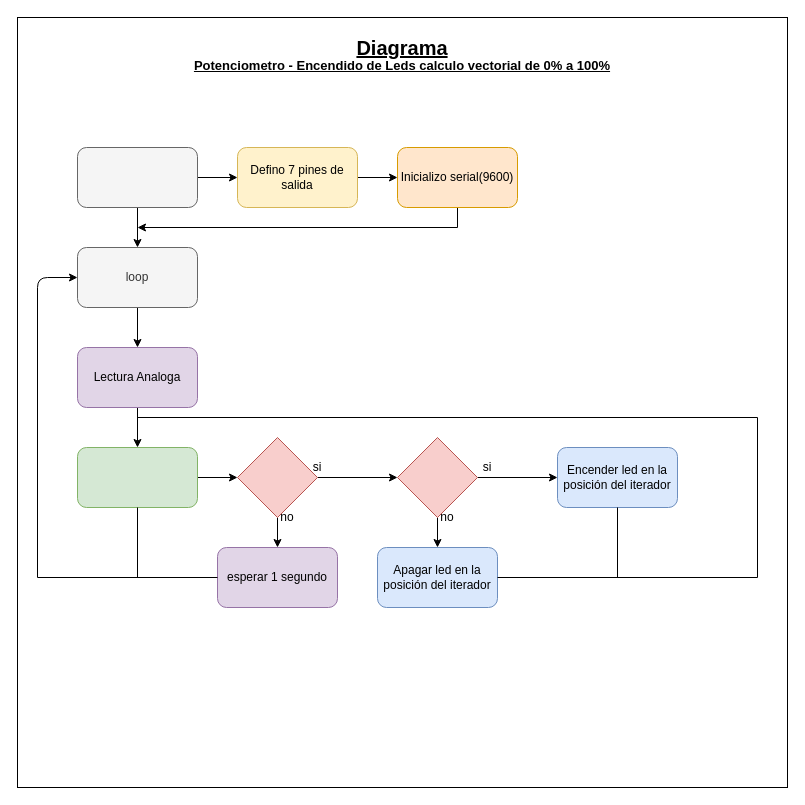
The diagram is 805 pixels wide and 805 high, and some of its shapes have lost their labels. The box of each missing label's shape, as (x1, y1, x2, y2) in pixels:
calculo el vector: (76, 446, 198, 508)
iteracion < 7: (236, 436, 318, 518)
iteracion < al vector: (396, 436, 478, 518)
setup: (76, 146, 198, 208)
